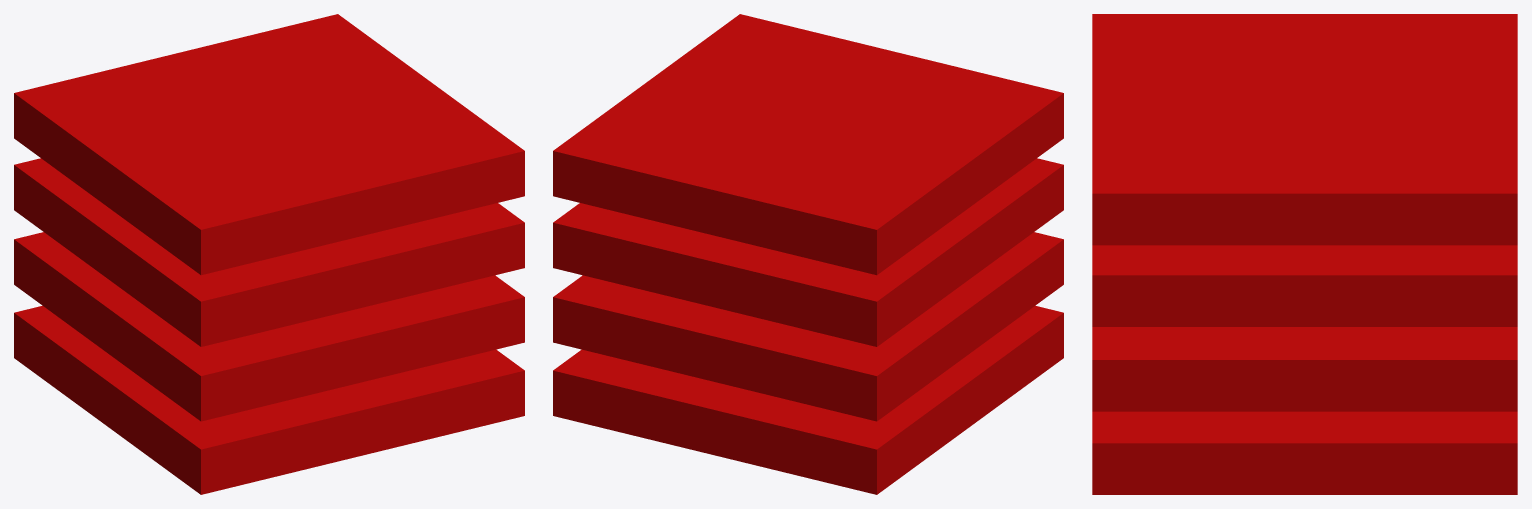
File: Avtomat2.obj
The picture shows the model from 3 angles, left to right: view 1: azimuth 30°, elevation 25°; view 2: azimuth 150°, elevation 25°; view 3: azimuth 270°, elevation 25°; orthographic projection. The views are drawn at different scales.
Parts seen in each view (by area): view 1: Cube.005_Cube.007; view 2: Cube.005_Cube.007; view 3: Cube.005_Cube.007.
Boxes of the visible parts, <box> form: Cube.005_Cube.007: <box>14,14,524,494</box>; Cube.005_Cube.007: <box>553,14,1063,494</box>; Cube.005_Cube.007: <box>1092,14,1517,494</box>.
Size of the model in its own units: 2.07 by 1.62 by 2.07.
